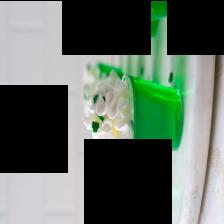green: (123, 73, 183, 163), (114, 183, 157, 224), (122, 0, 182, 27), (117, 17, 158, 43), (105, 159, 141, 188)
